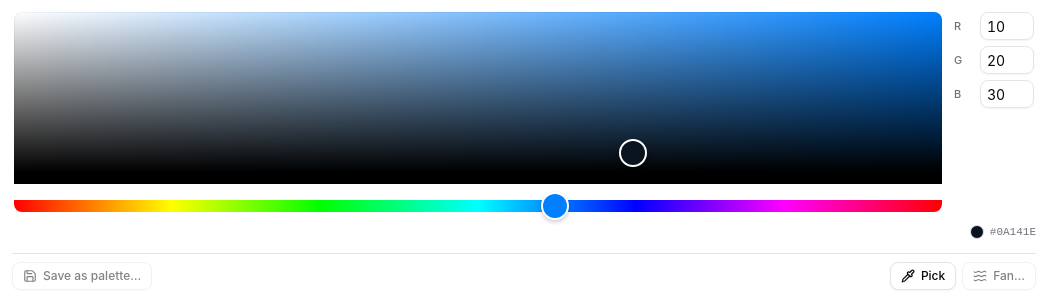
Test: Pick › ignores a head with no colour descriptor: a dimmer’s tungsten is neither read nor a reason to say mixed
The width and height of the screenshot is (1048, 307).
Click the button "Pick". click: (923,276)
box: [890,262,956,290]
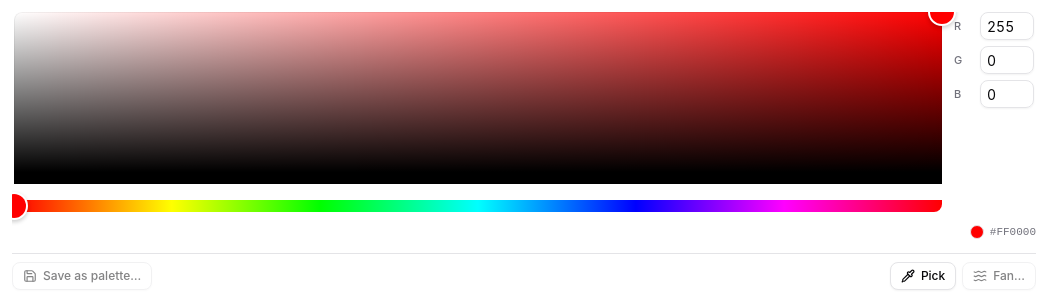
Expected: the number field labelled "R" holds "255", [980,12,1034,40]
